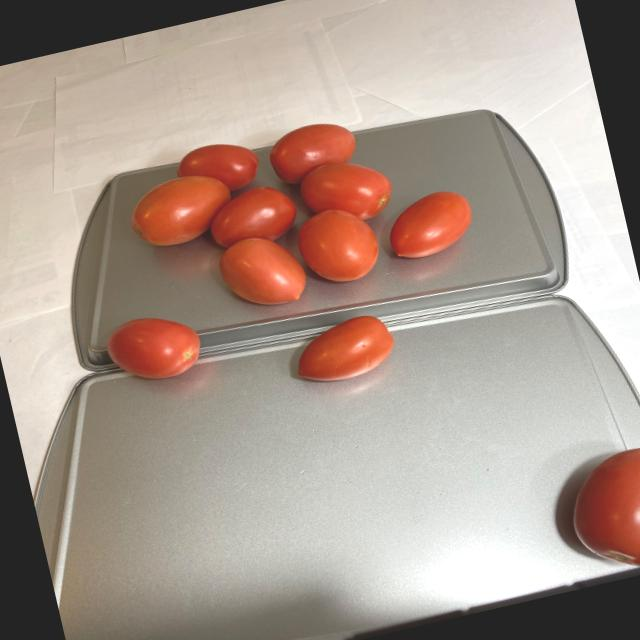tomato: (63, 90, 510, 431), (559, 431, 640, 574)
